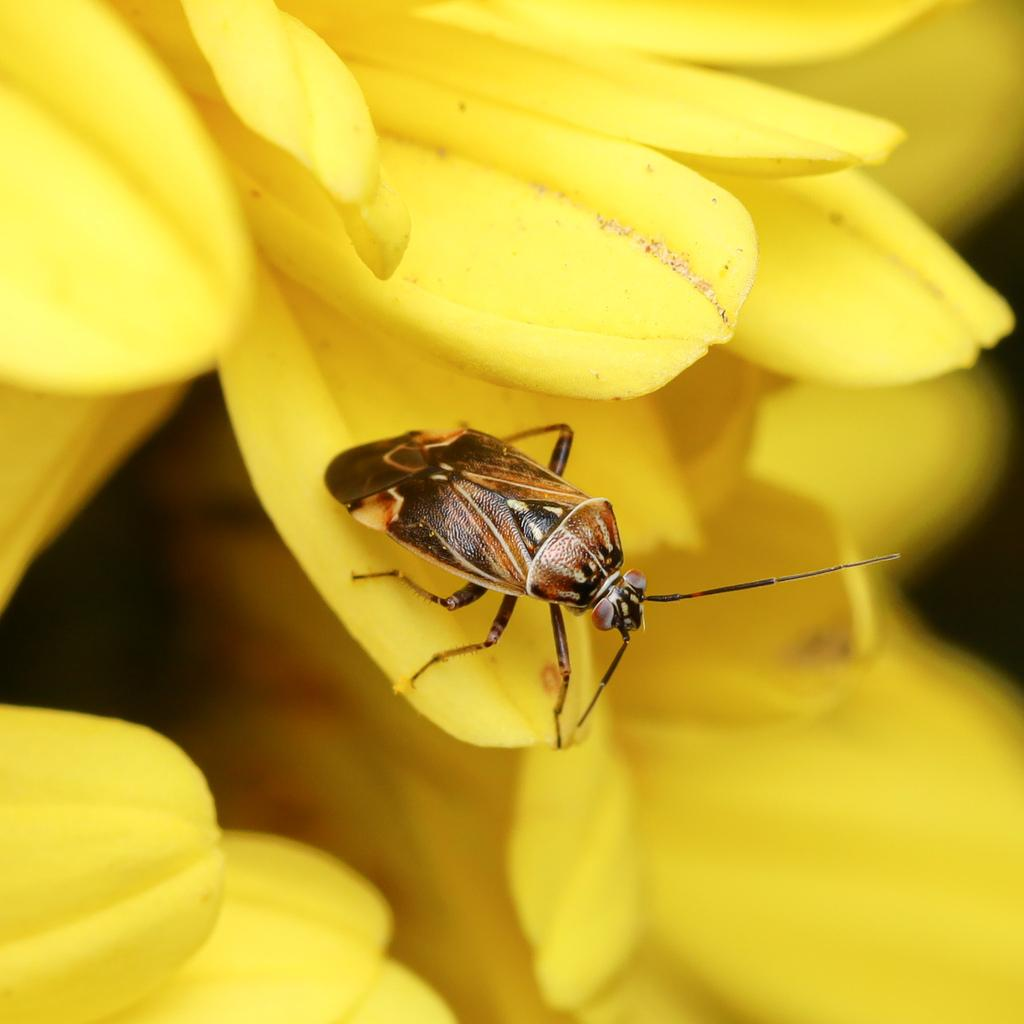plant_bugs: (256, 340, 951, 832)
